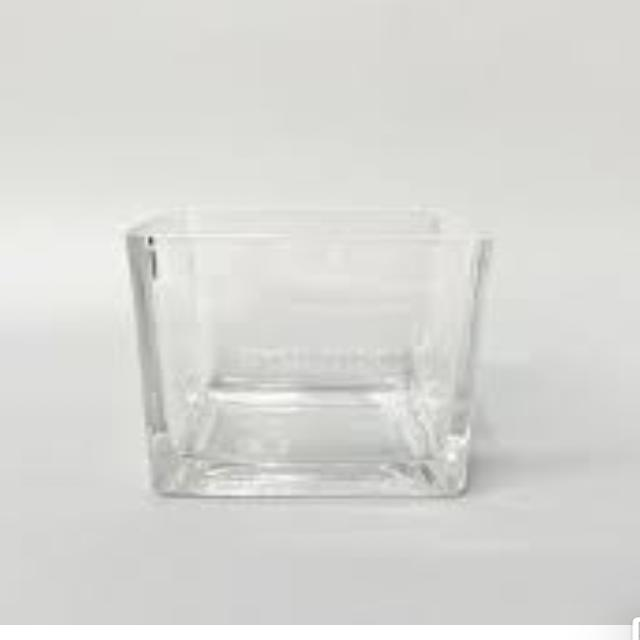recyclable: (108, 182, 521, 517)
